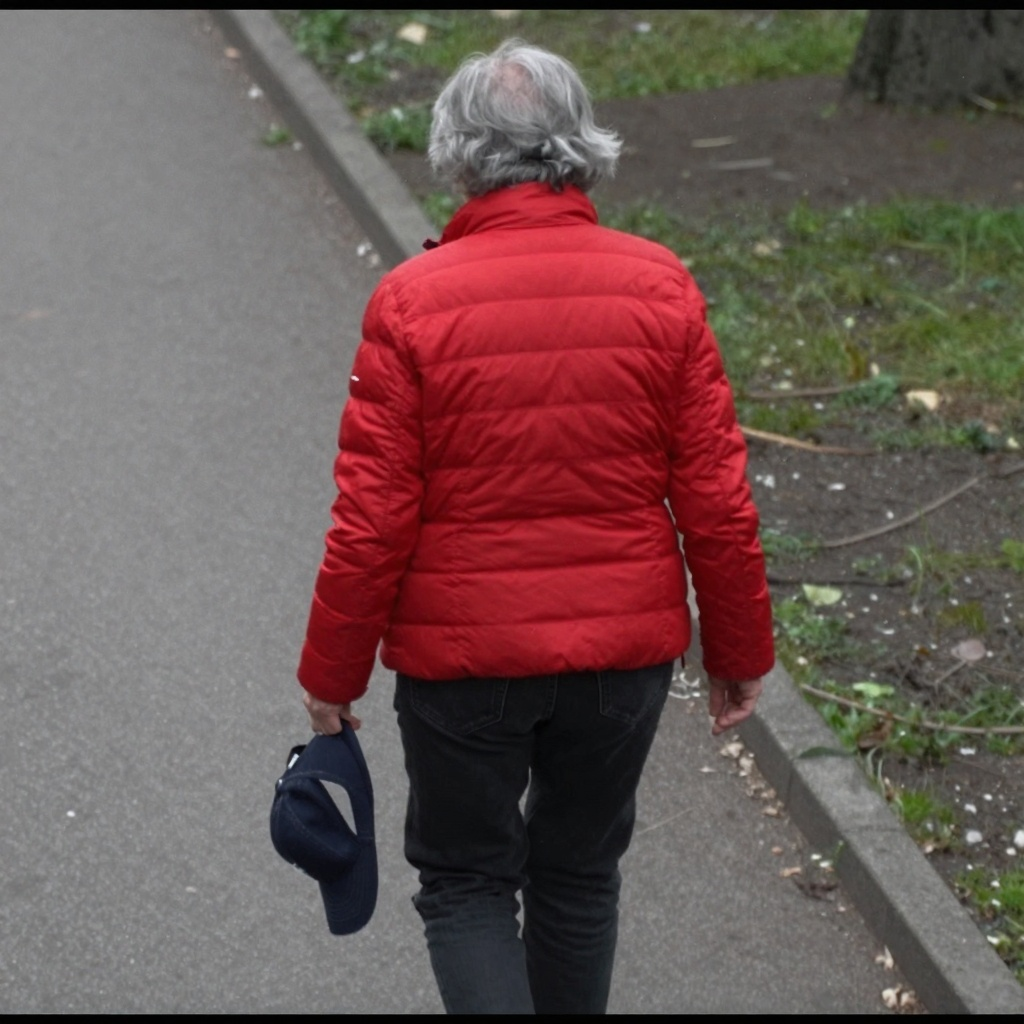Normal activity: (293, 49, 775, 998)
